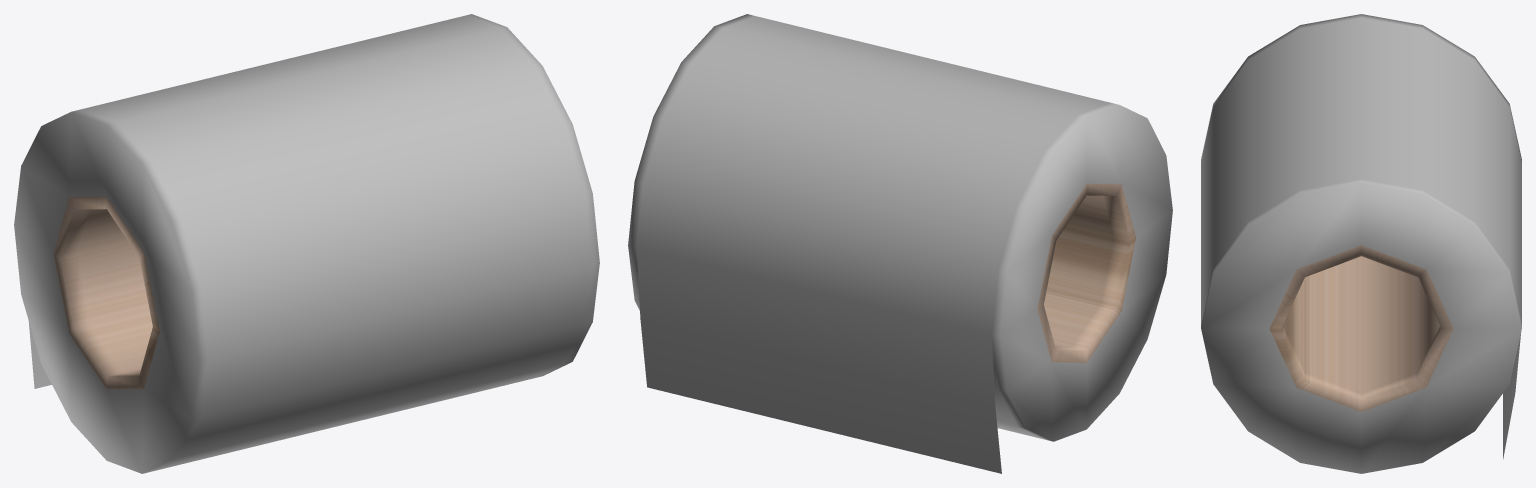
File: toilet_paper.glb
3 renders of one model, left to right at view 1: azimuth 30°, elevation 25°; view 2: azimuth 150°, elevation 25°; view 3: azimuth 270°, elevation 25°, orthographic. The views are drawn at different scales.
Visible parts, largest first — view 1: ToiletPaper; view 2: ToiletPaper; view 3: ToiletPaper.
Boxes of the visible parts, bbox=[...] form: ToiletPaper: bbox=[14, 14, 599, 473]; ToiletPaper: bbox=[628, 14, 1172, 473]; ToiletPaper: bbox=[1201, 14, 1521, 473].
Bounding box in the file's own units: 0.2324 × 0.1862 × 0.1862.
2 materials, 1 textured.
